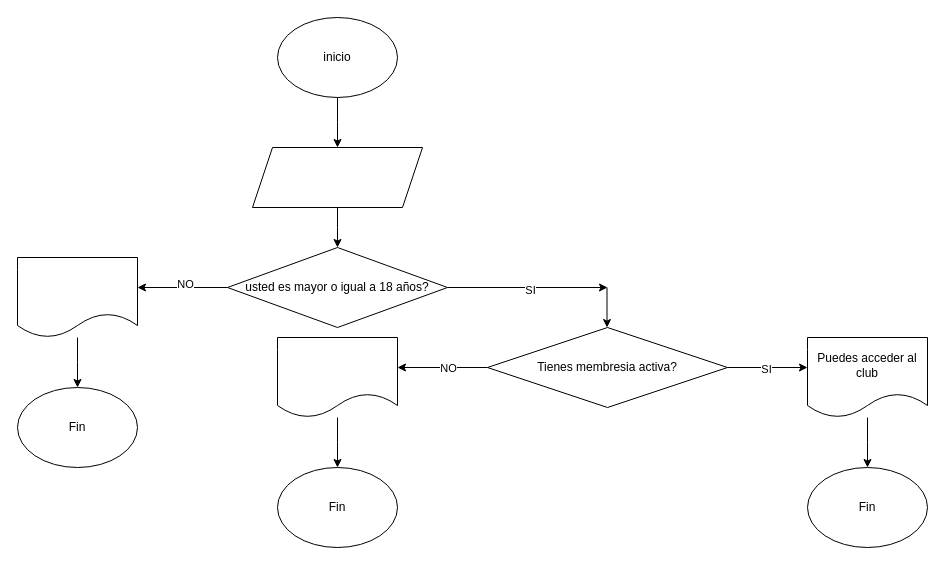
The diagram is 945 pixels wide and 565 high, and some of its shapes have lost their labels. The box of each missing label's shape, as (x1, y1, x2, y2) in pixels:
ingresar edad y si tiene membresia activa: (252, 146, 422, 208)
No puedes acceder al club: (16, 256, 138, 338)
No puedes acceder la club, necesitas membresia activa: (276, 336, 398, 418)
